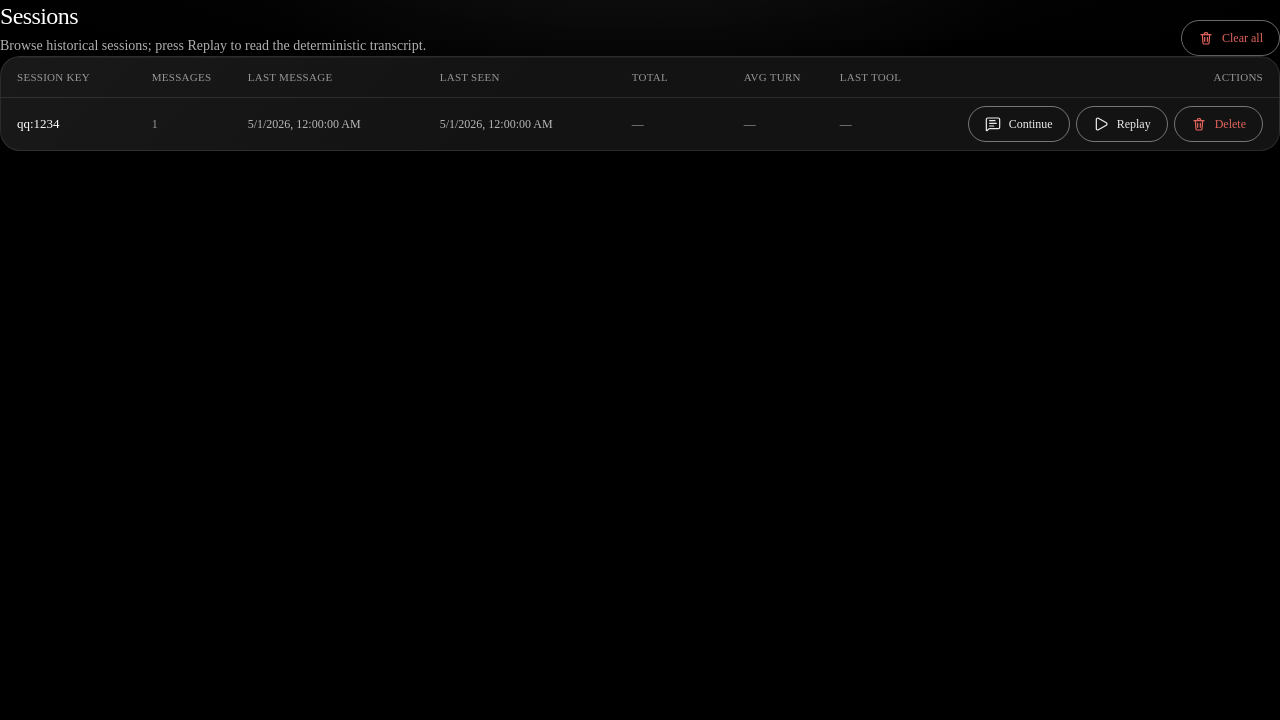
Test: SessionsPage › opens the replay dialog when the Replay button is clicked
Click the button with test id "session-replay-qq:1234".
click(1122, 124)  # box [1076,106,1168,142]
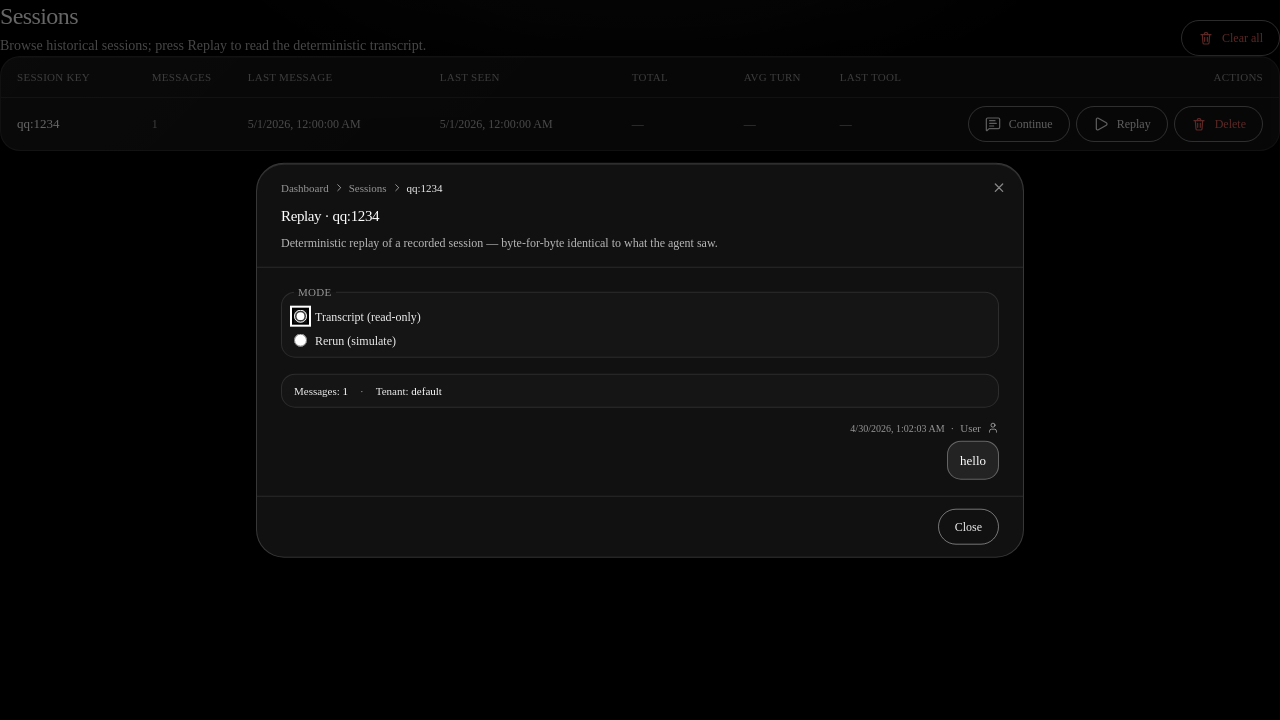
expect the dialog with test id "replay-dialog" is shown: met, box [256,163,1024,557]
